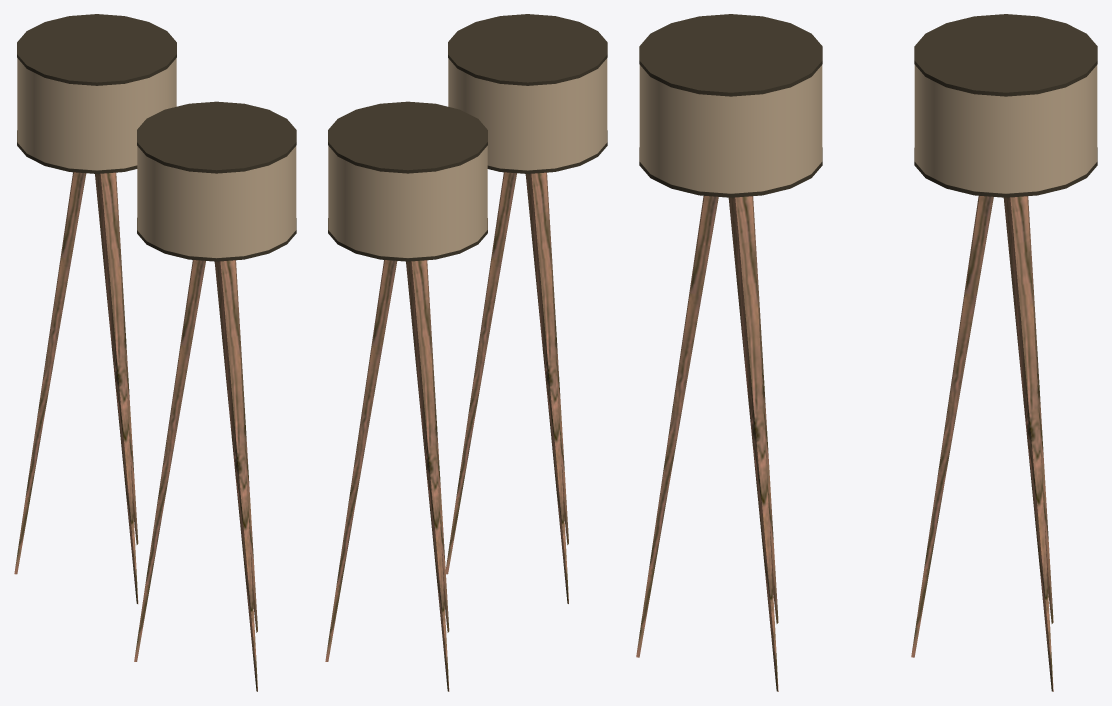
The picture shows the model from 3 angles, left to right: view 1: azimuth 30°, elevation 25°; view 2: azimuth 150°, elevation 25°; view 3: azimuth 270°, elevation 25°; orthographic projection. The views are drawn at different scales.
Visible parts, largest first — view 1: Stand Light 3, Stand Light 004; view 2: Stand Light 004, Stand Light 3; view 3: Stand Light 3, Stand Light 004.
Boxes of the visible parts, x1,y1,x2,y2 form: Stand Light 3: [134, 101, 296, 691]; Stand Light 004: [14, 14, 176, 603]; Stand Light 004: [325, 101, 487, 691]; Stand Light 3: [445, 14, 607, 603]; Stand Light 3: [636, 14, 822, 691]; Stand Light 004: [911, 14, 1097, 691].
Bounding box in the file's own units: 0.5 × 1.79 × 1.24.
Materials: 1 (1 with a texture image).
